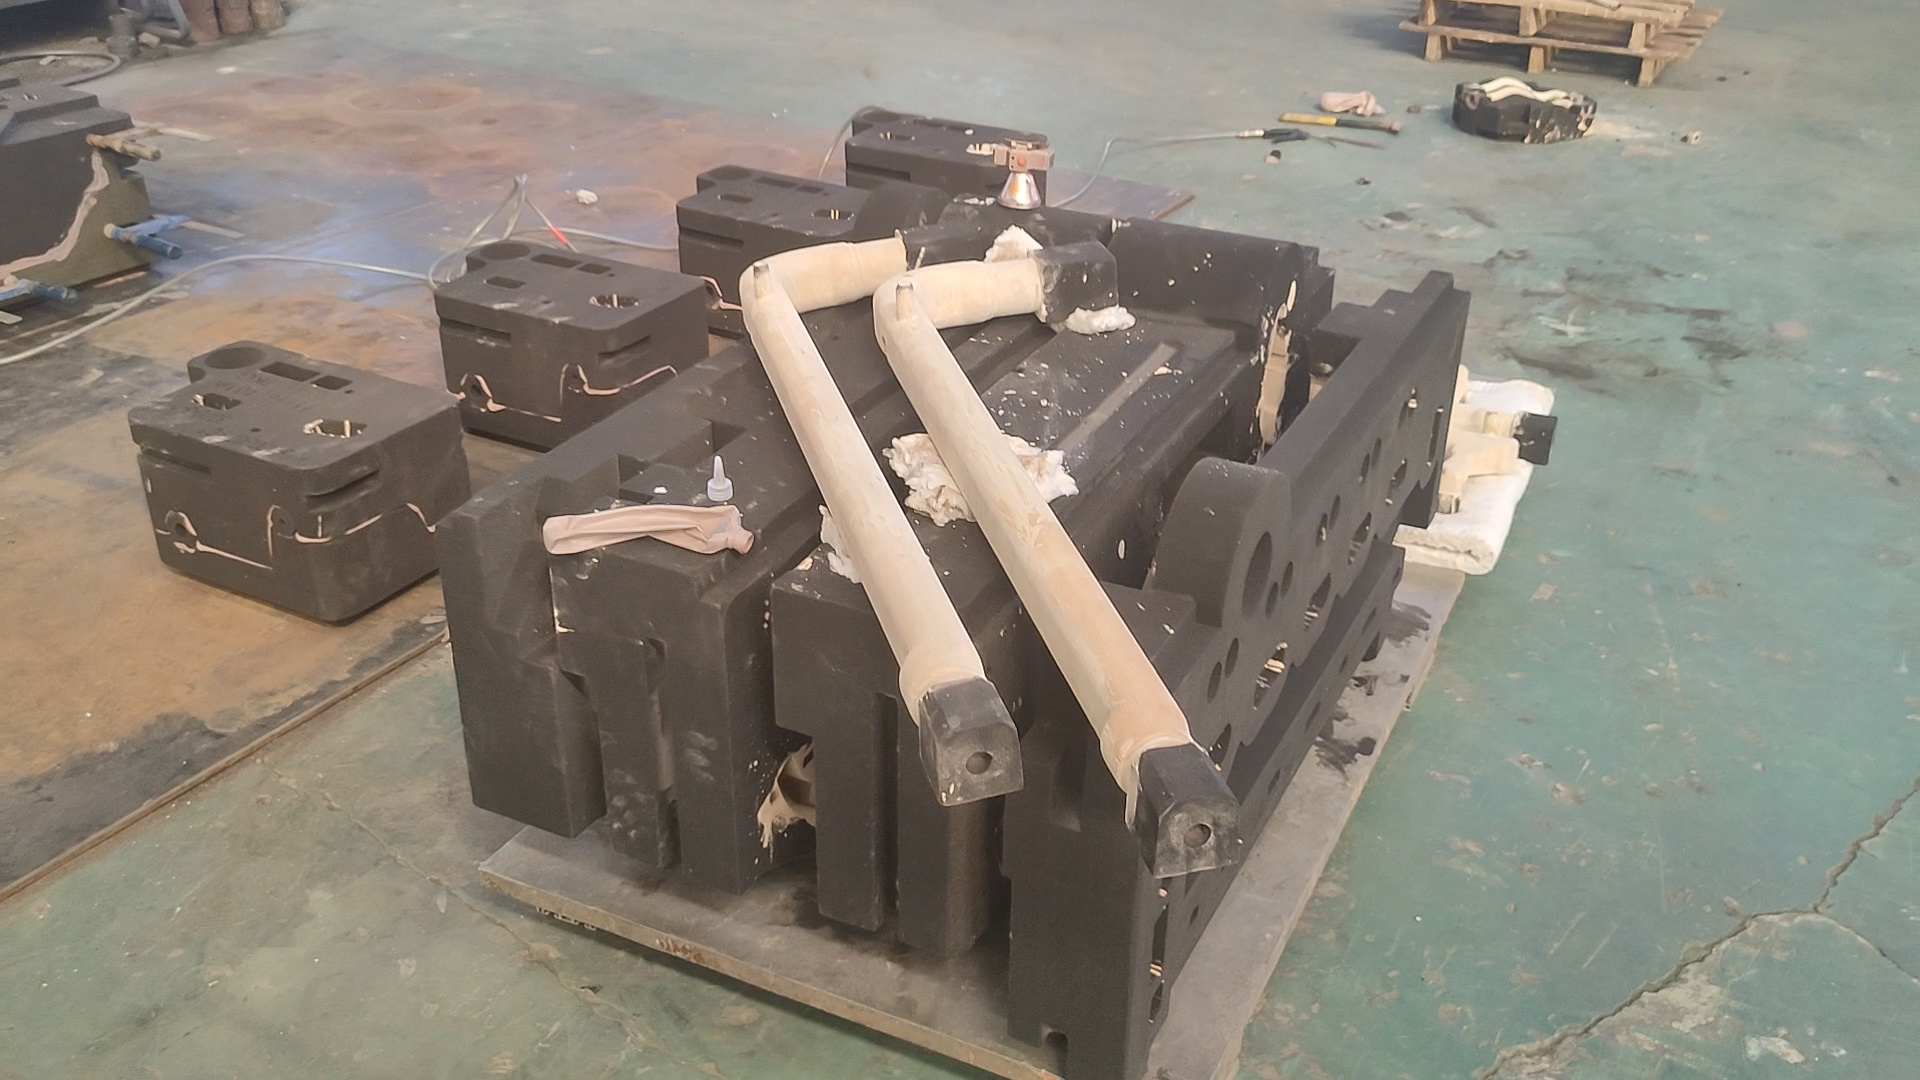pouring hole: (1240, 529, 1275, 620), (203, 345, 266, 369), (477, 237, 527, 262), (705, 164, 754, 182), (858, 109, 905, 125)
